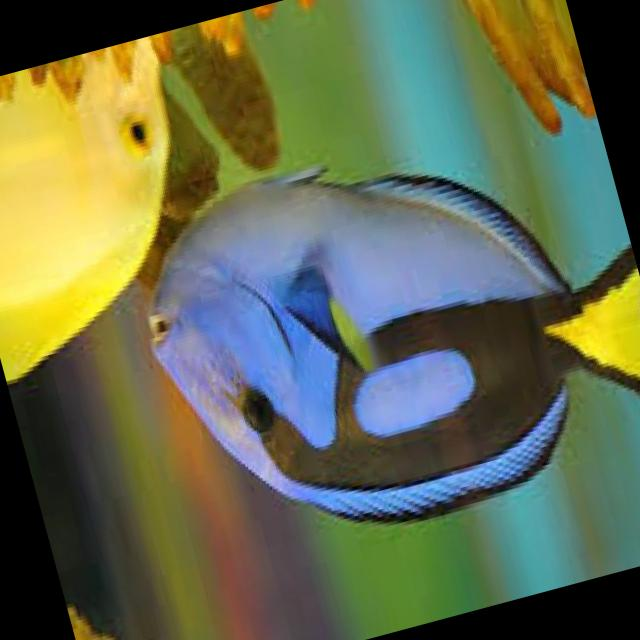BlueTang: (114, 94, 640, 577)
